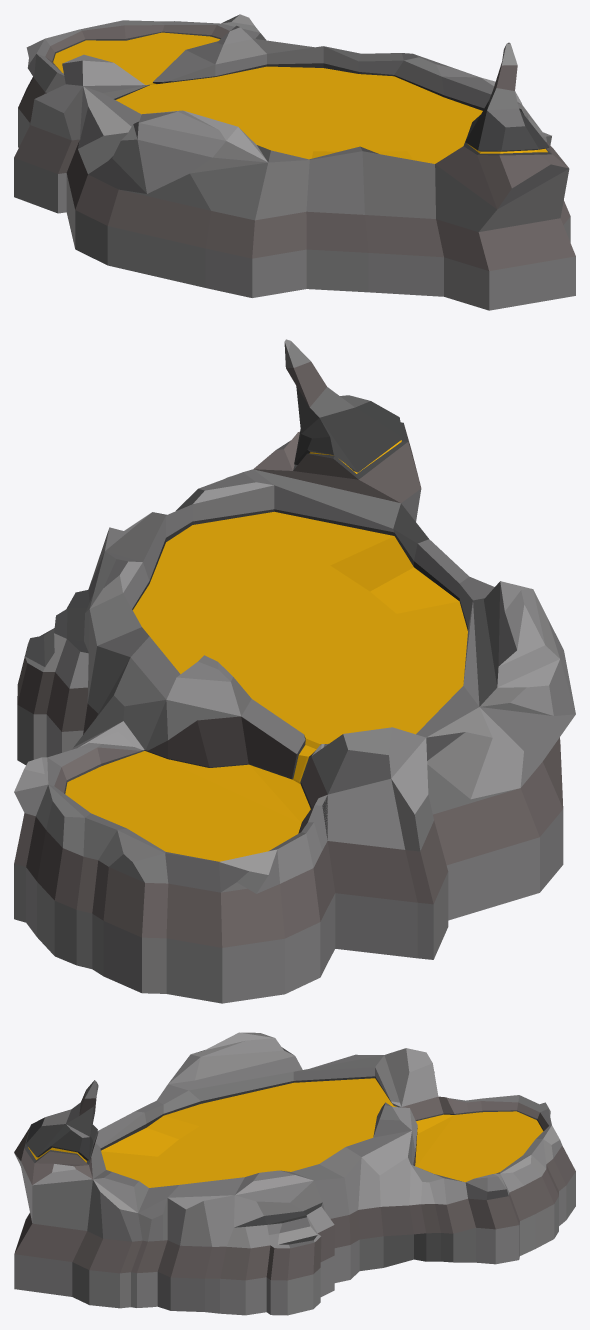
Rendered from lago.fbx.
3 views of the same model, one above another, from view 1: azimuth 30°, elevation 25°; view 2: azimuth 150°, elevation 25°; view 3: azimuth 270°, elevation 25° (orthographic). The views are drawn at different scales.
Visible parts, largest first — view 1: lago; view 2: lago; view 3: lago.
Part boxes in pixels (x1=…): lago: x1=14, y1=14, x2=575, y2=310; lago: x1=14, y1=339, x2=575, y2=1003; lago: x1=14, y1=1032, x2=575, y2=1315.
Bounding box in the file's own units: 1047 × 579 × 1480.
